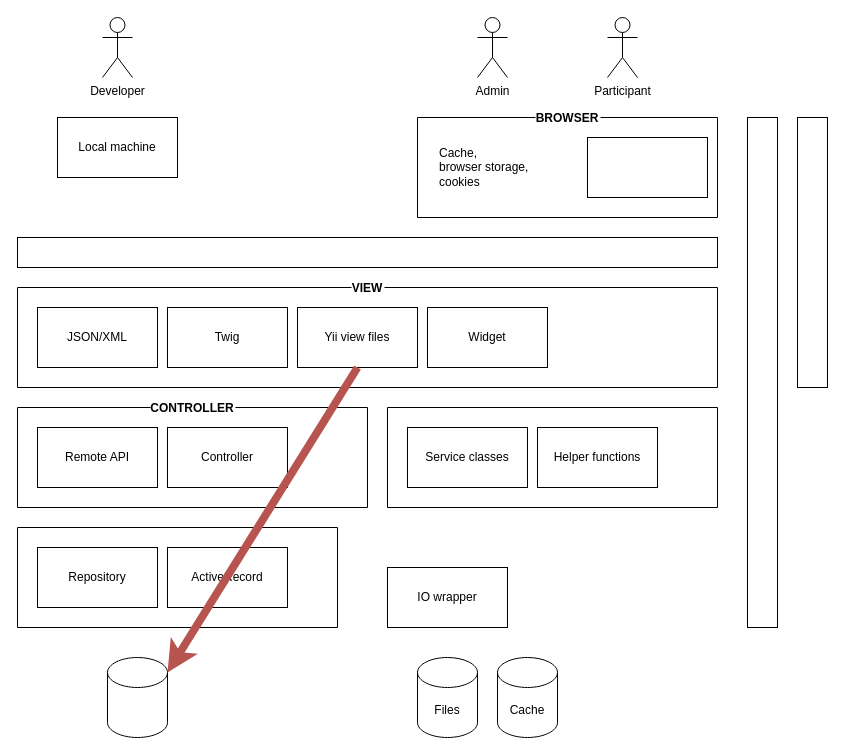
Image size: 845x755. Some labels were removed from this diagram. The shapes that lost their labels are listed below. From the top down, each one's box as (x1, y1, x2, y2) in pixels, then its label:
(586, 136, 708, 198): JavaScript
(16, 236, 718, 268): Http Request
(796, 116, 828, 388): Vue
(746, 116, 778, 628): Yii
(386, 406, 718, 508): BUSINESS LOGIC
(16, 526, 338, 628): MODEL
(106, 656, 168, 738): SQL
